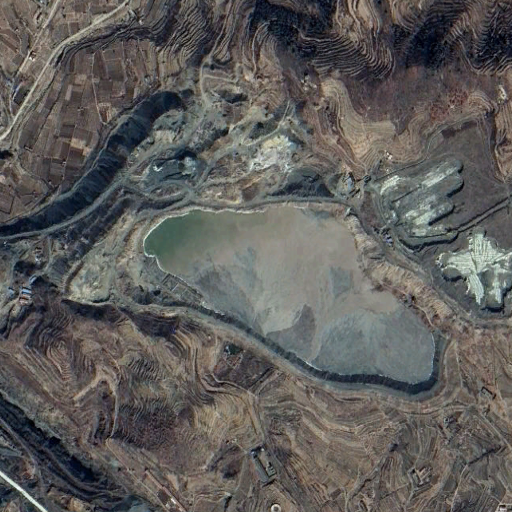tp: (137, 197, 445, 398)
